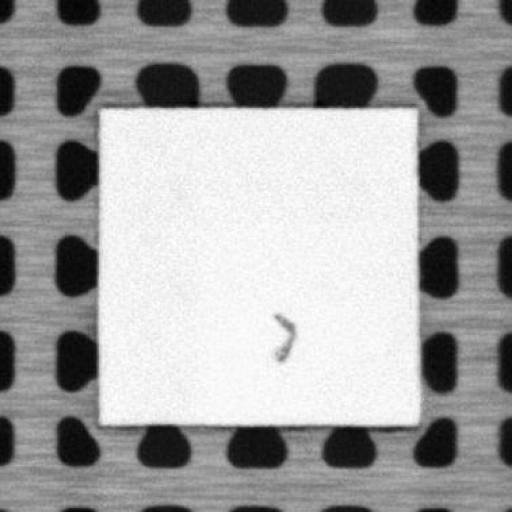DIE_INK: (270, 311, 295, 363)
